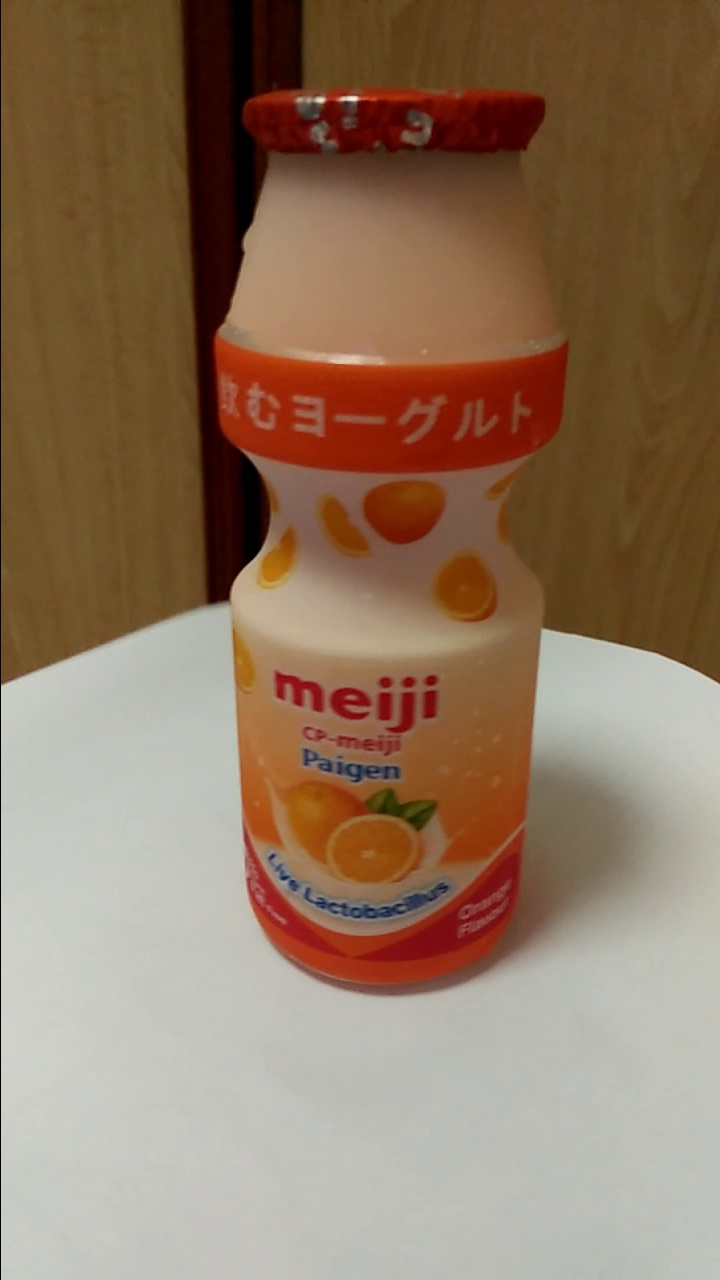milk: (217, 94, 556, 980)
